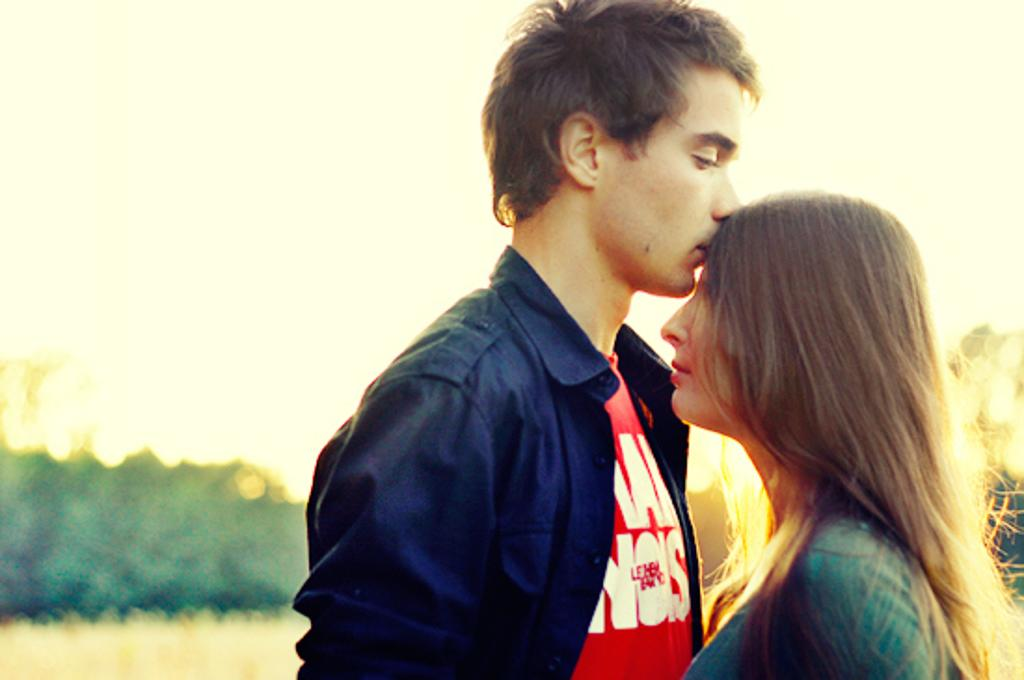face: (618, 50, 746, 300), (662, 216, 804, 426)
